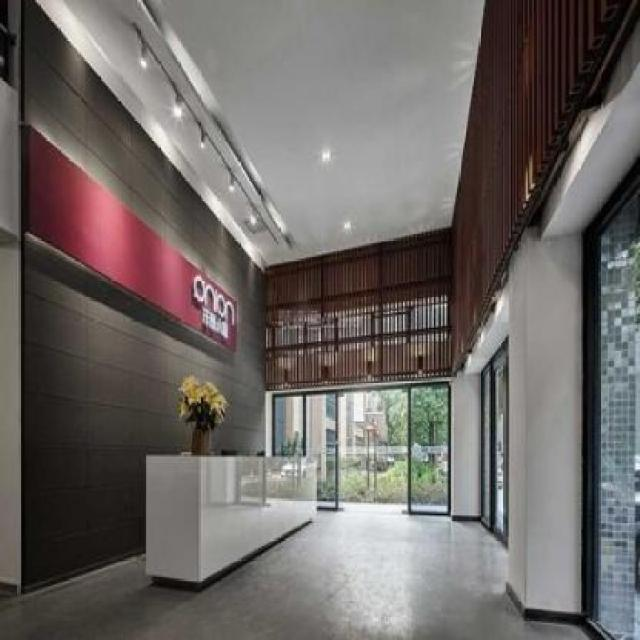frontdesk: (142, 449, 324, 601)
